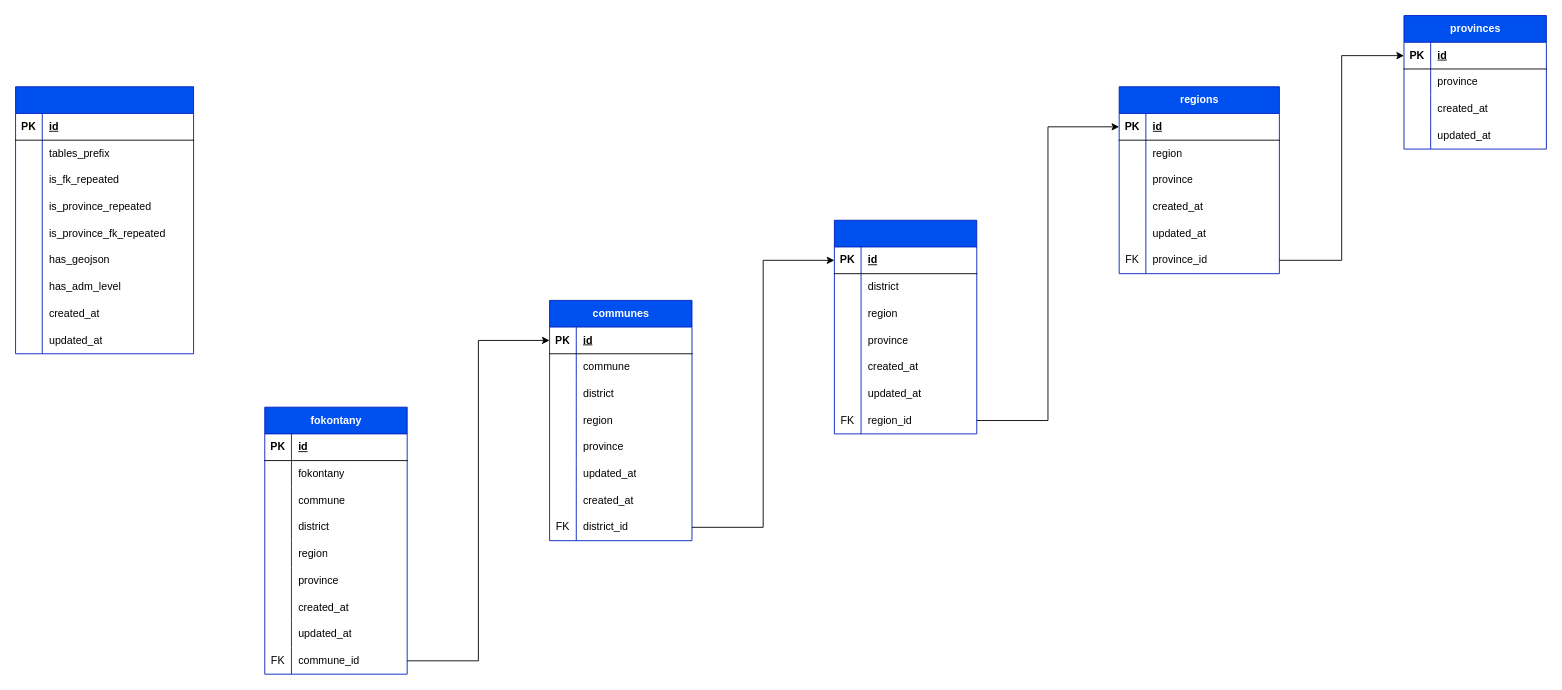
This 1562x690 diagram has some shape labels left out. Each missing label, with the box of its shape:
districts: (833, 219, 977, 434)
mada_adm_config: (15, 86, 194, 354)
